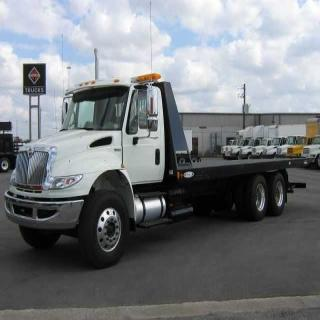Towing_truck: (3, 71, 307, 268)
